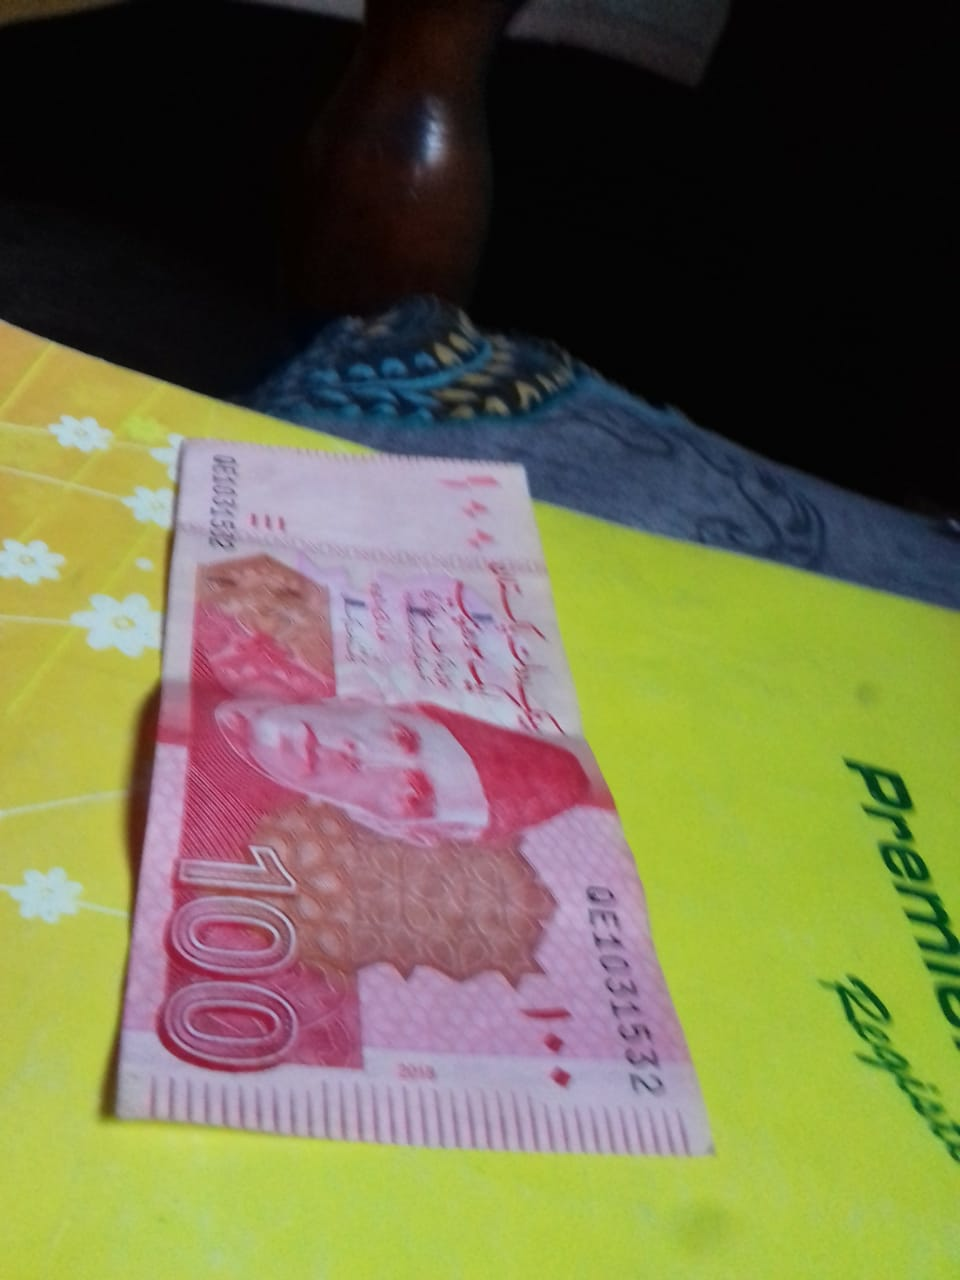100 rupee: (104, 387, 741, 1236)
